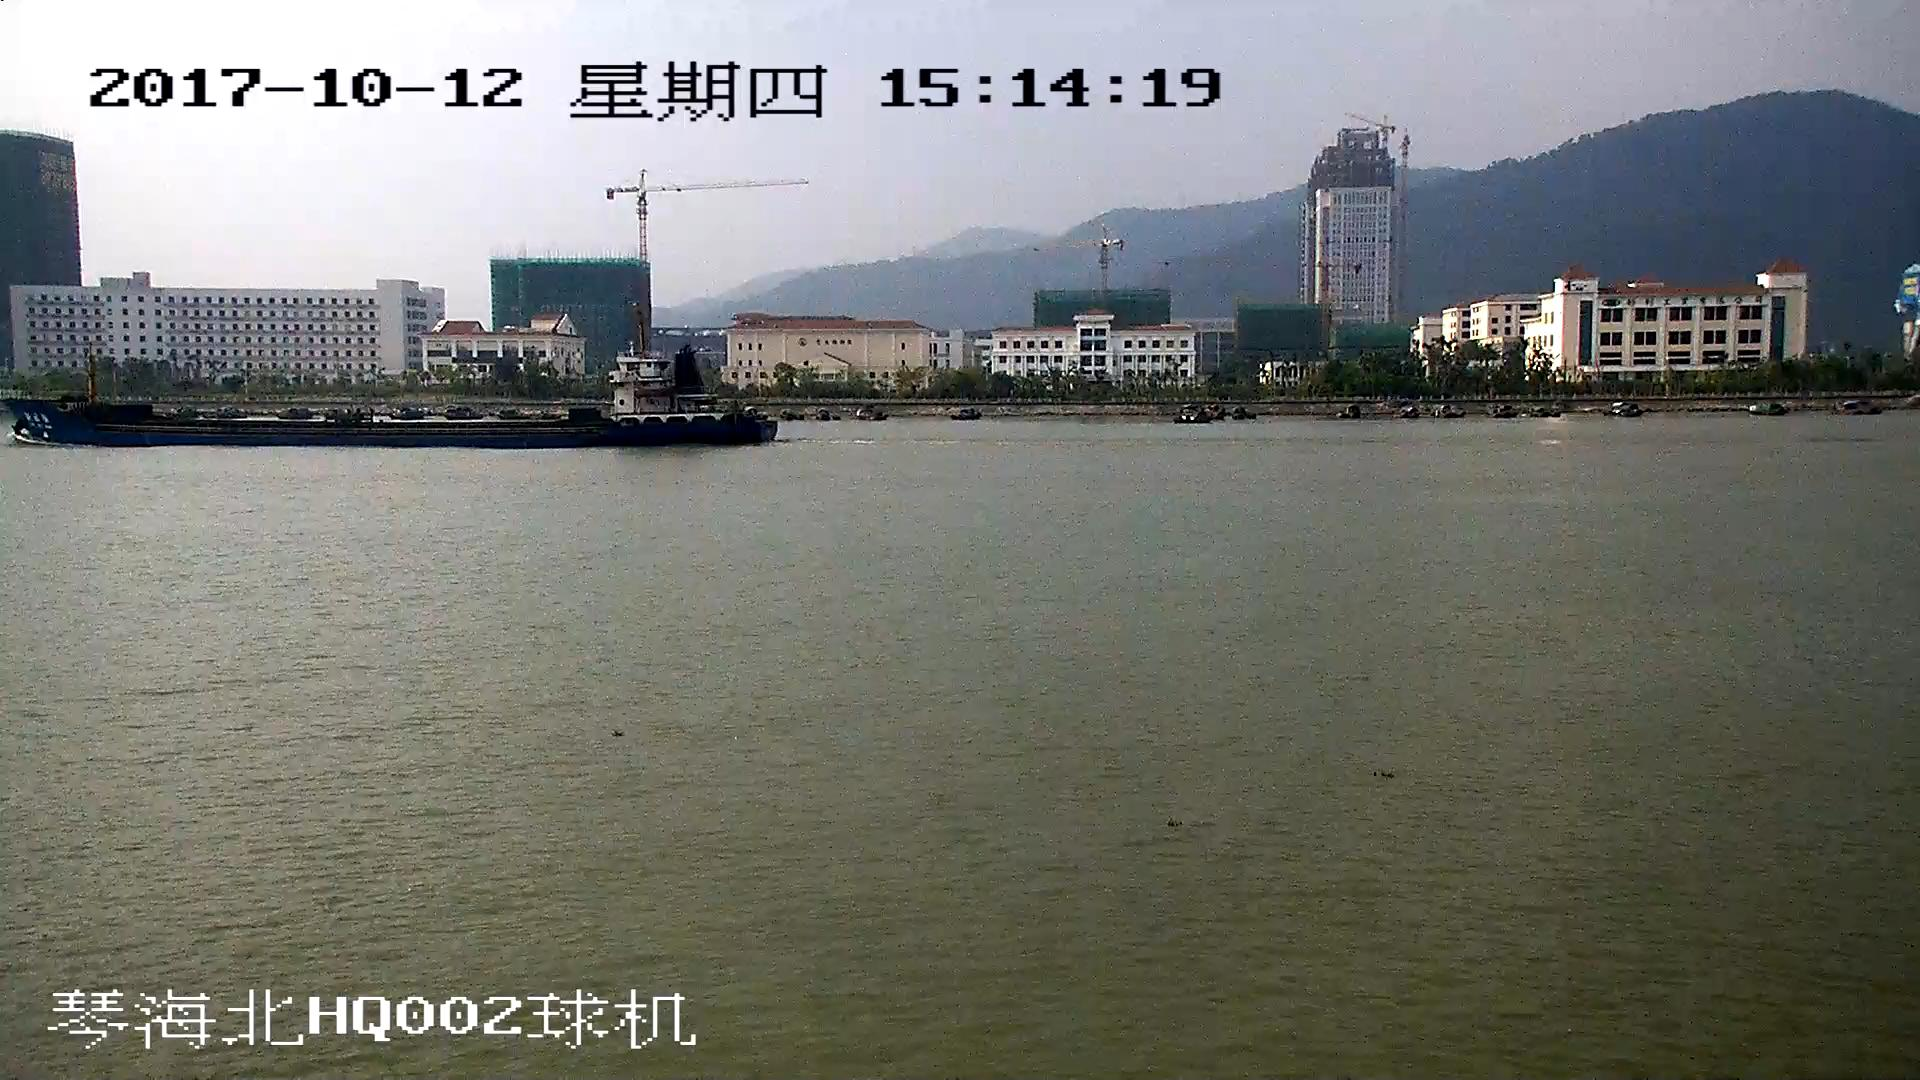general cargo ship: (1, 331, 775, 452)
